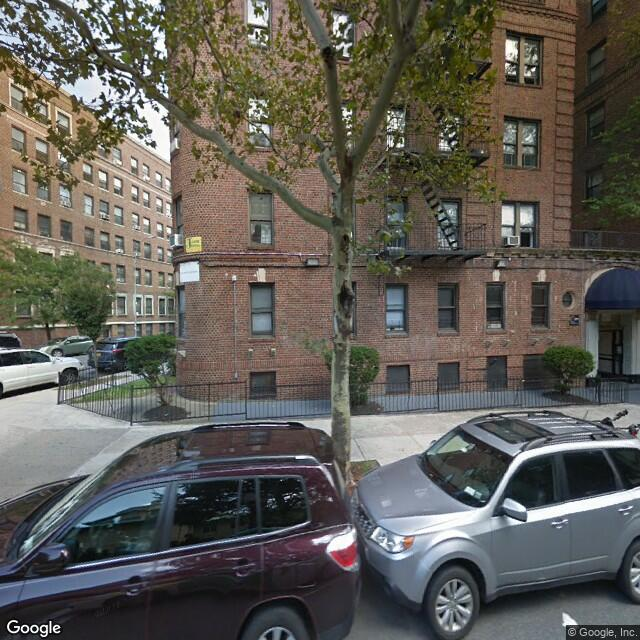litter: (561, 612, 579, 630)
